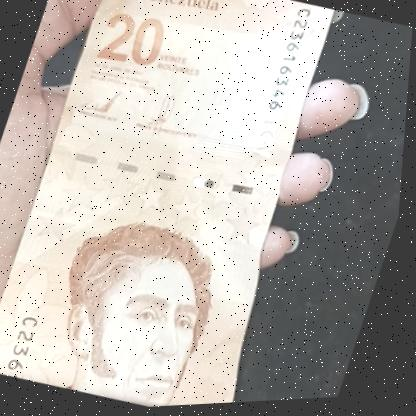twenty-front-vef: (0, 0, 366, 416)
